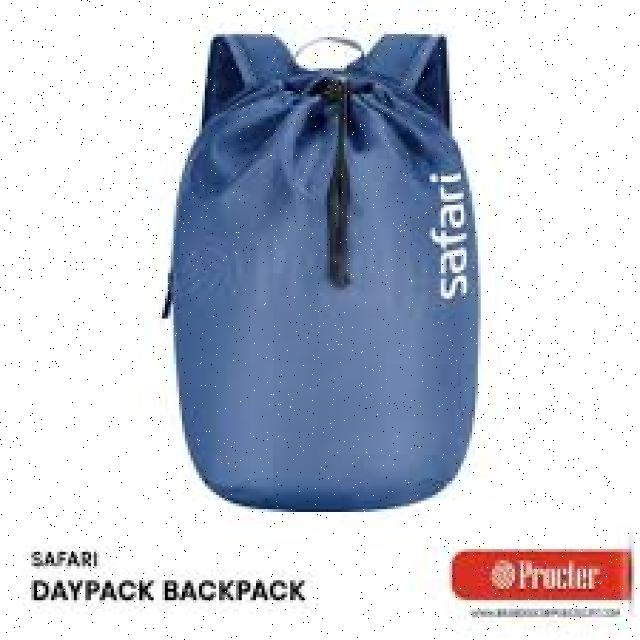backpack: (159, 28, 481, 512)
